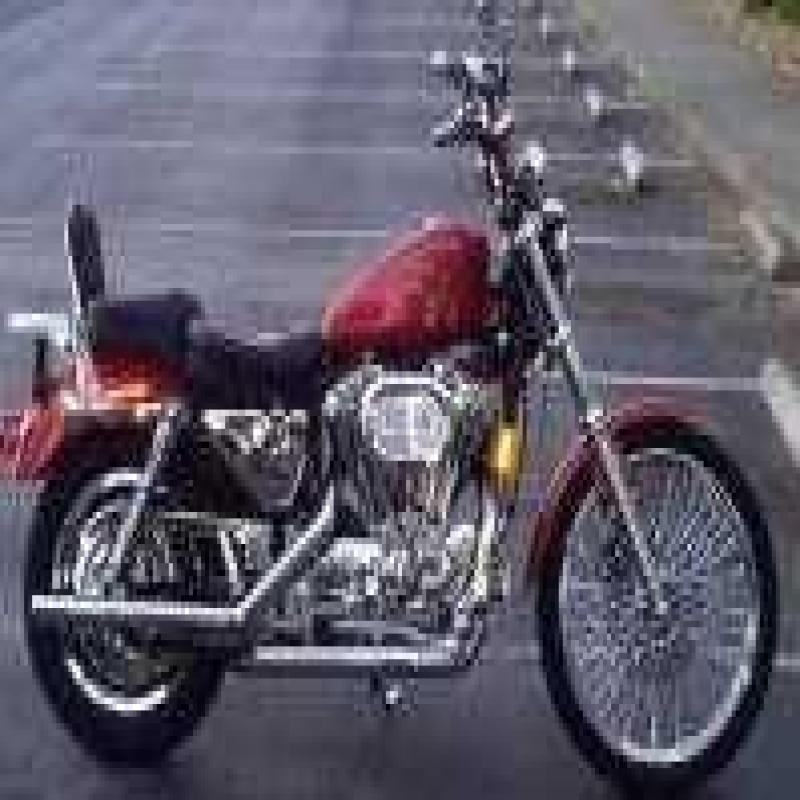bike: (3, 19, 785, 789)
